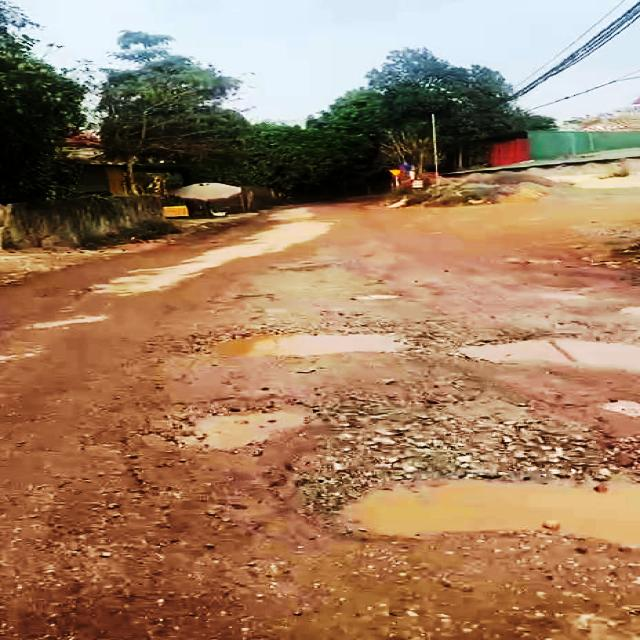pothole: (323, 456, 640, 561), (142, 389, 349, 454), (194, 327, 423, 364), (458, 330, 640, 370)
